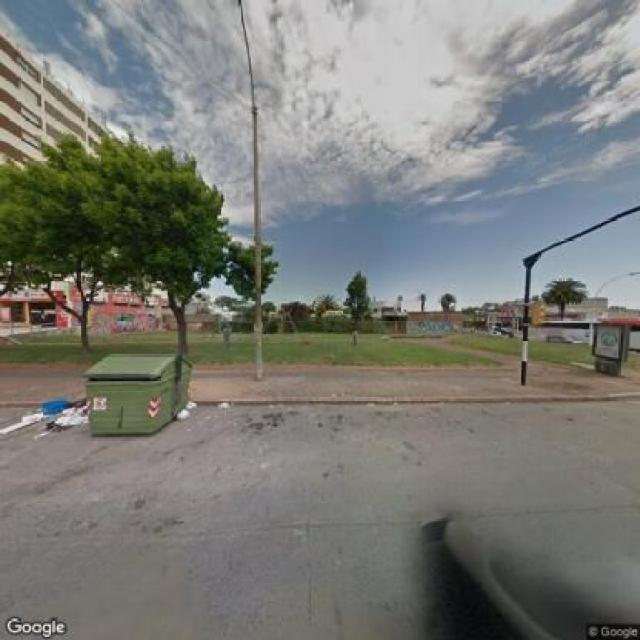garbage: (28, 392, 94, 436)
